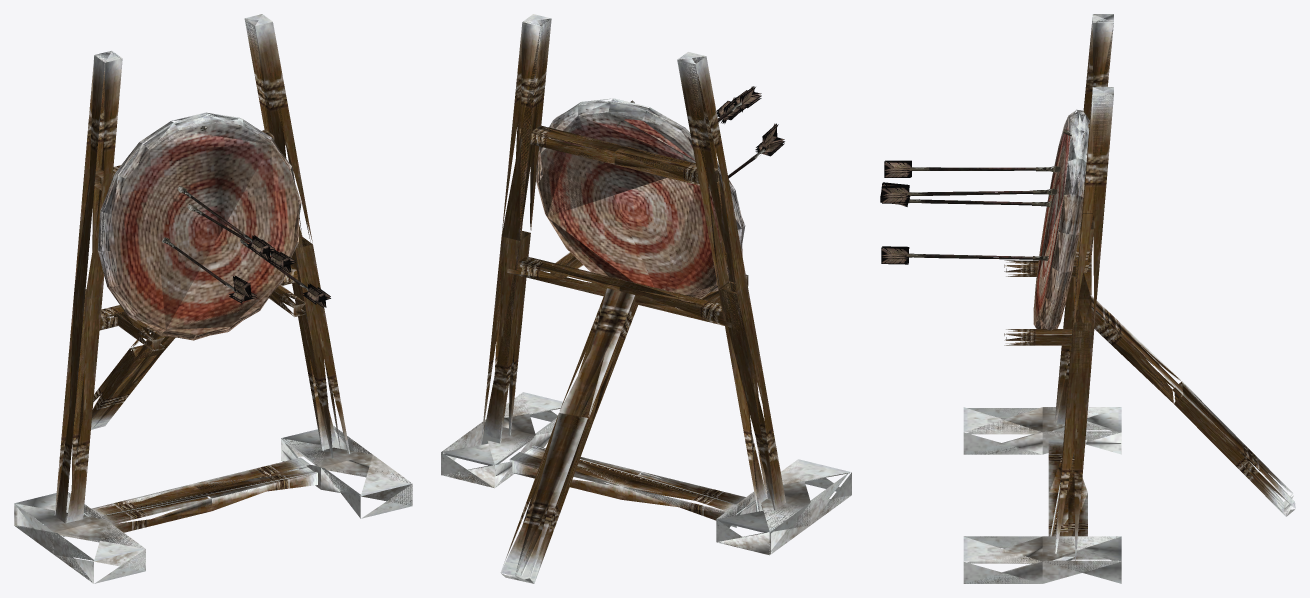
The picture shows the model from 3 angles, left to right: view 1: azimuth 30°, elevation 25°; view 2: azimuth 150°, elevation 25°; view 3: azimuth 270°, elevation 25°; orthographic projection. The views are drawn at different scales.
Parts seen in each view (by area): view 1: mesh0; view 2: mesh0; view 3: mesh0.
Part boxes in pixels (<box>): mesh0: <box>14,14,412,583</box>; mesh0: <box>441,14,851,583</box>; mesh0: <box>880,14,1295,583</box>.
Size of the model in its own units: 0.679 by 0.9334 by 0.7711.
